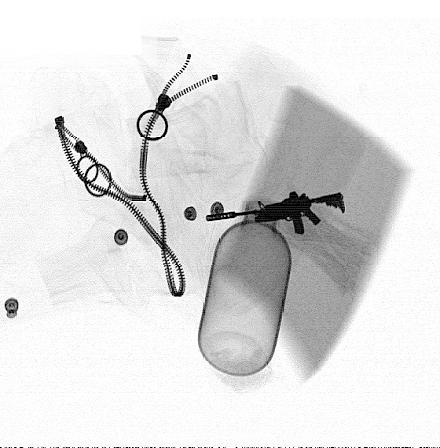Gun: (205, 191, 347, 234)
